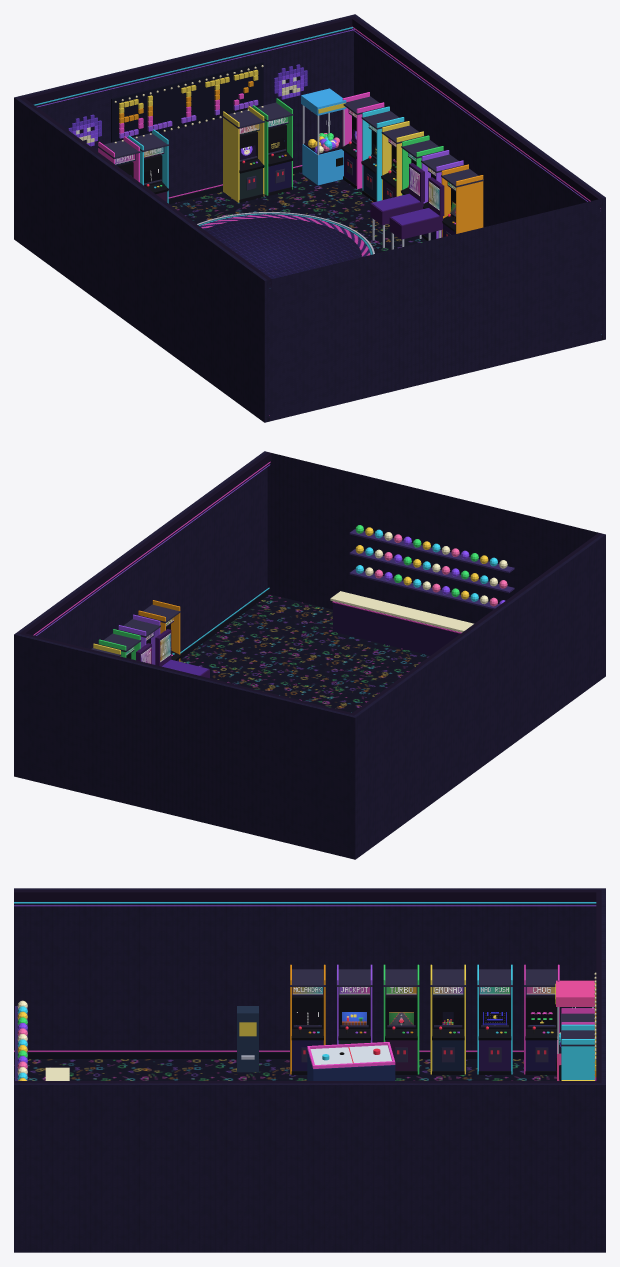
The model's file is set.glb.
3 views of the same model, one above another, from view 1: azimuth 30°, elevation 25°; view 2: azimuth 150°, elevation 25°; view 3: azimuth 270°, elevation 25° (orthographic). The views are drawn at different scales.
Visible parts, largest first — view 1: RoomWall, RoomFlat, RoomGlowLights, RoomStage, RoomCarpet, RoomGlowMarquees, RoomGlowScreens; view 2: RoomWall, RoomFlat, RoomCarpet, RoomGlowLights; view 3: RoomWall, RoomFlat, RoomCarpet, RoomGlowLights, RoomGlowScreens, RoomGlowMarquees.
Part boxes in pixels (left/top/right/bottom): RoomWall: left=14, top=14, right=605, bottom=422; RoomFlat: left=19, top=16, right=602, bottom=421; RoomGlowLights: left=34, top=26, right=601, bottom=415; RoomStage: left=198, top=213, right=372, bottom=278; RoomCarpet: left=170, top=172, right=426, bottom=253; RoomGlowMarquees: left=115, top=109, right=455, bottom=210; RoomGlowScreens: left=144, top=129, right=455, bottom=215; RoomWall: left=14, top=451, right=605, bottom=859; RoomFlat: left=19, top=452, right=602, bottom=715; RoomCarpet: left=180, top=594, right=430, bottom=712; RoomGlowLights: left=33, top=461, right=461, bottom=675; RoomWall: left=14, top=888, right=605, bottom=1252; RoomFlat: left=14, top=890, right=601, bottom=1083; RoomCarpet: left=14, top=1059, right=556, bottom=1080; RoomGlowLights: left=14, top=902, right=596, bottom=1080; RoomGlowScreens: left=295, top=1012, right=554, bottom=1025; RoomGlowMarquees: left=292, top=987, right=555, bottom=994.
Size of the model in its own units: 42.8 by 17.01 by 54.4.
7 materials, 5 textured.
